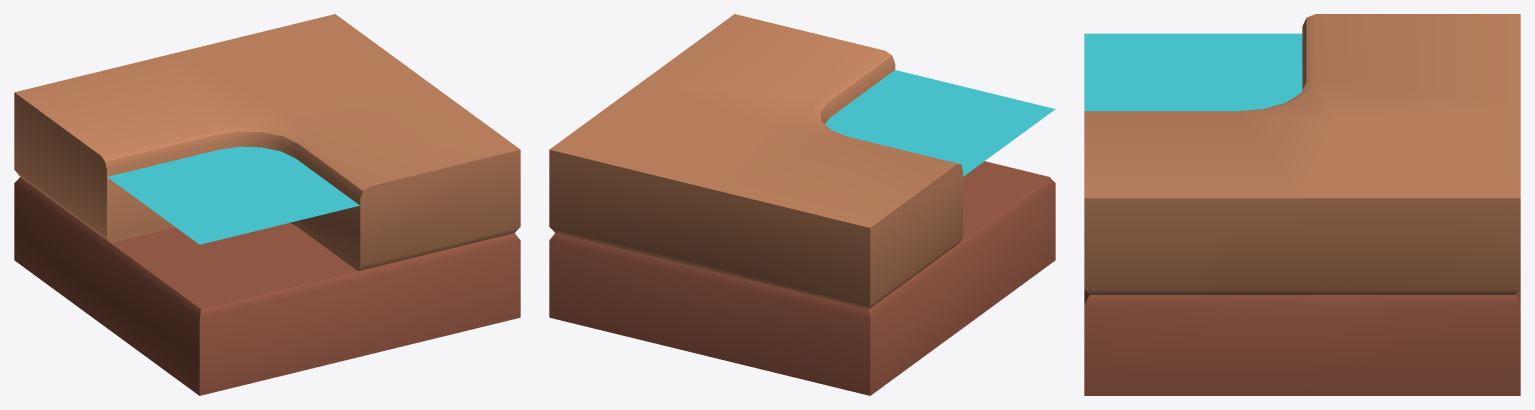
The model's file is square_rock_waterInnerCorner_noSides.glb.
3 views of the same model, side by side, from view 1: azimuth 30°, elevation 25°; view 2: azimuth 150°, elevation 25°; view 3: azimuth 270°, elevation 25° (orthographic). The views are drawn at different scales.
Visible parts, largest first — view 1: square_rock_waterInnerCorner_noSides; view 2: square_rock_waterInnerCorner_noSides; view 3: square_rock_waterInnerCorner_noSides.
Part boxes in pixels (box(x1,y1,x2,y2)): square_rock_waterInnerCorner_noSides: box(14, 14, 520, 395); square_rock_waterInnerCorner_noSides: box(549, 14, 1055, 395); square_rock_waterInnerCorner_noSides: box(1084, 14, 1520, 395).
Size of the model in its own units: 3.82 by 1.91 by 3.82.
